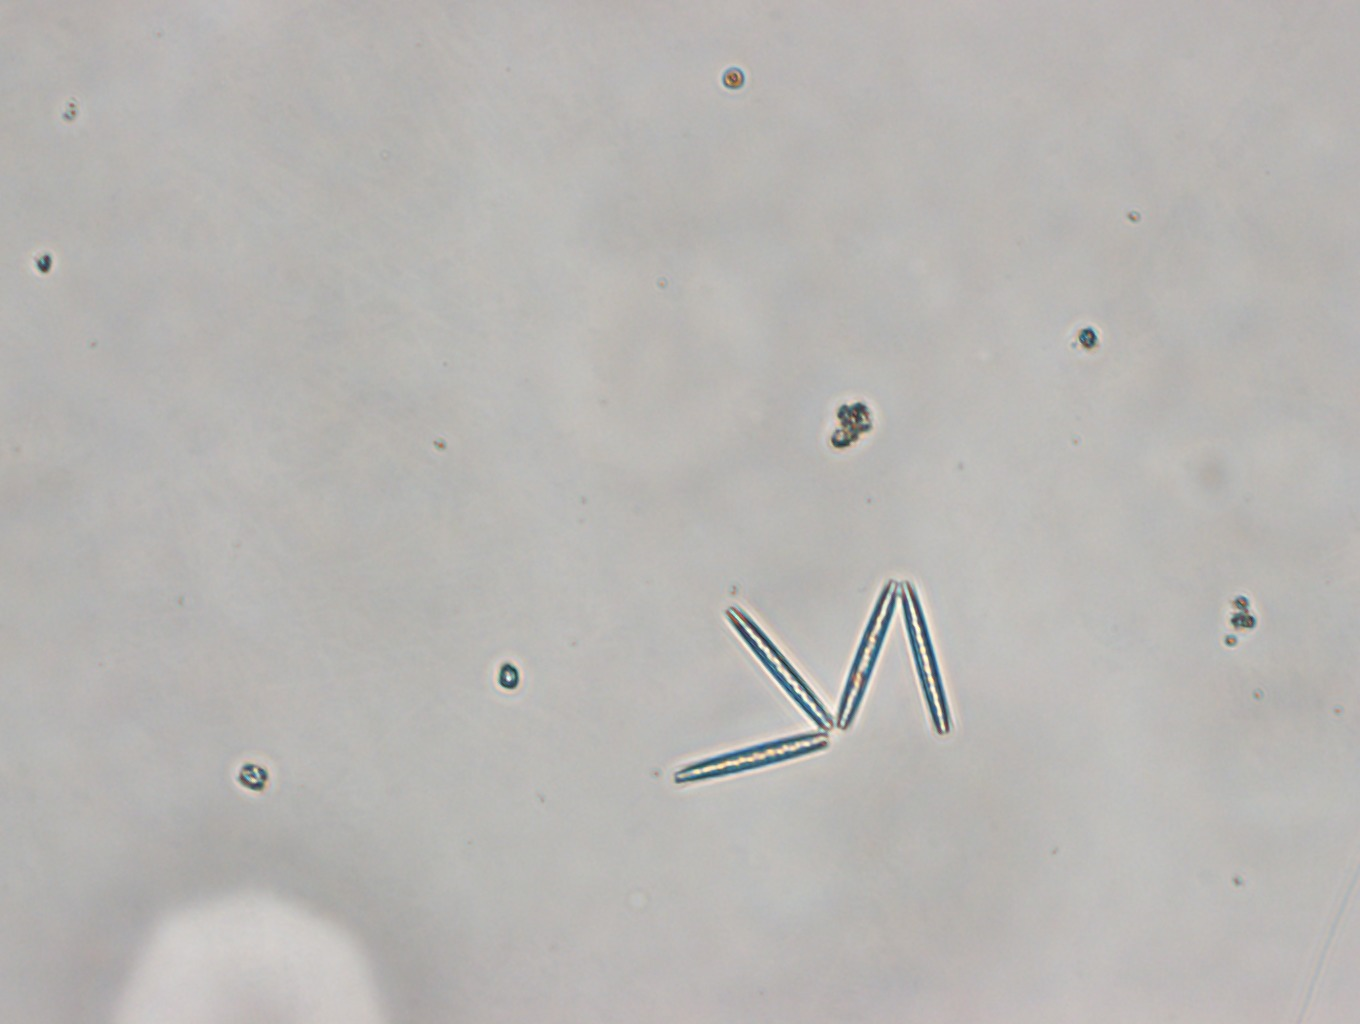thalassionema nitzschioides: (672, 574, 953, 783)
